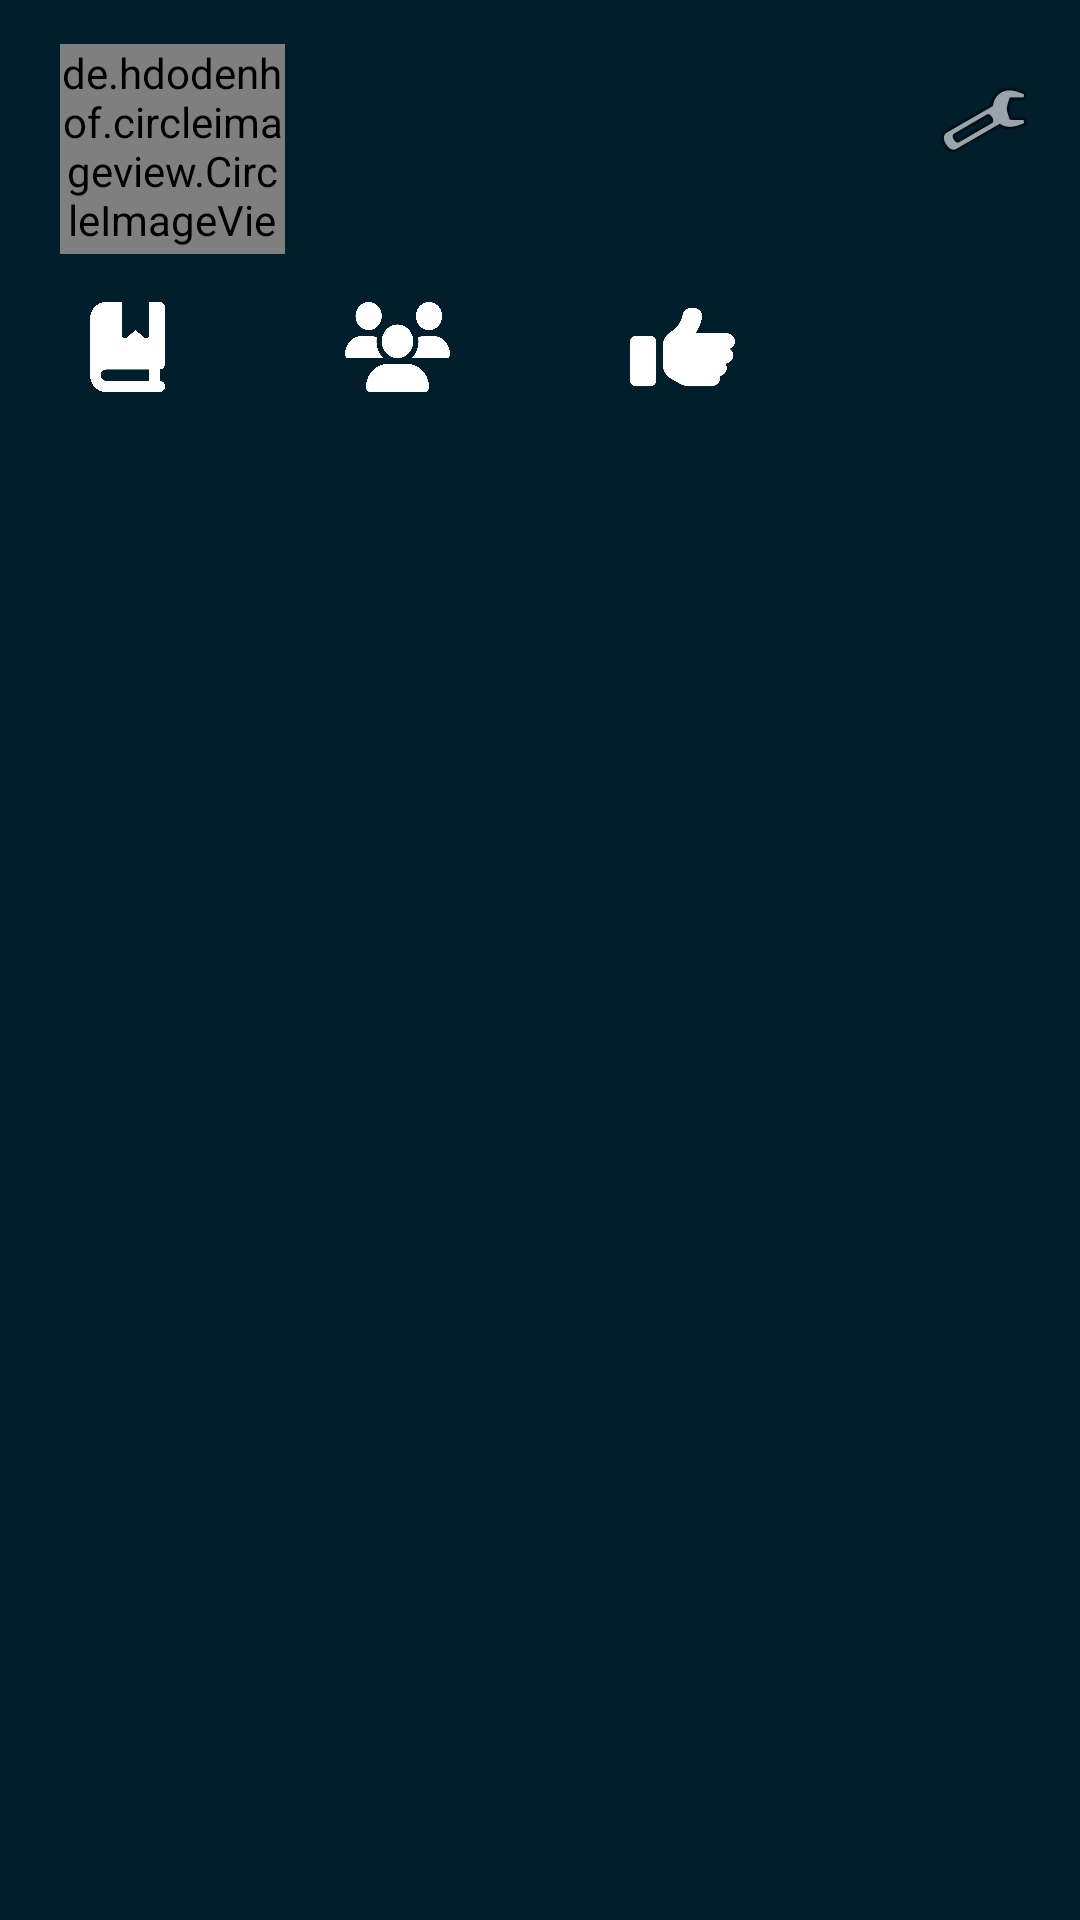

Icon bounding boxes for this 1080w x 1920h phone screenshot, format (x1, y1, x2, y2):
preferences: (943, 90, 1025, 150)
repositorios: (90, 302, 165, 392)
seguidores: (345, 302, 450, 392)
thumb: (630, 308, 735, 386)
